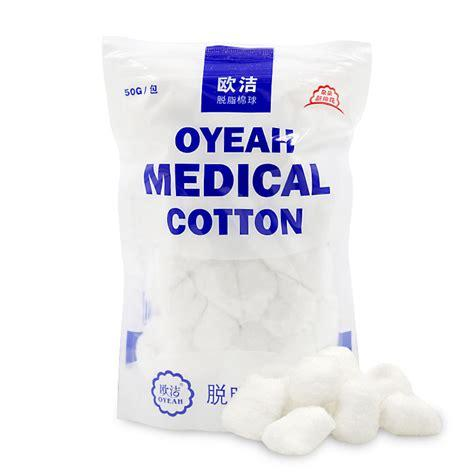cotton: (138, 259, 333, 352), (288, 344, 365, 403), (220, 377, 290, 440), (321, 383, 385, 449), (261, 405, 333, 455), (380, 386, 444, 440), (371, 361, 413, 399)
